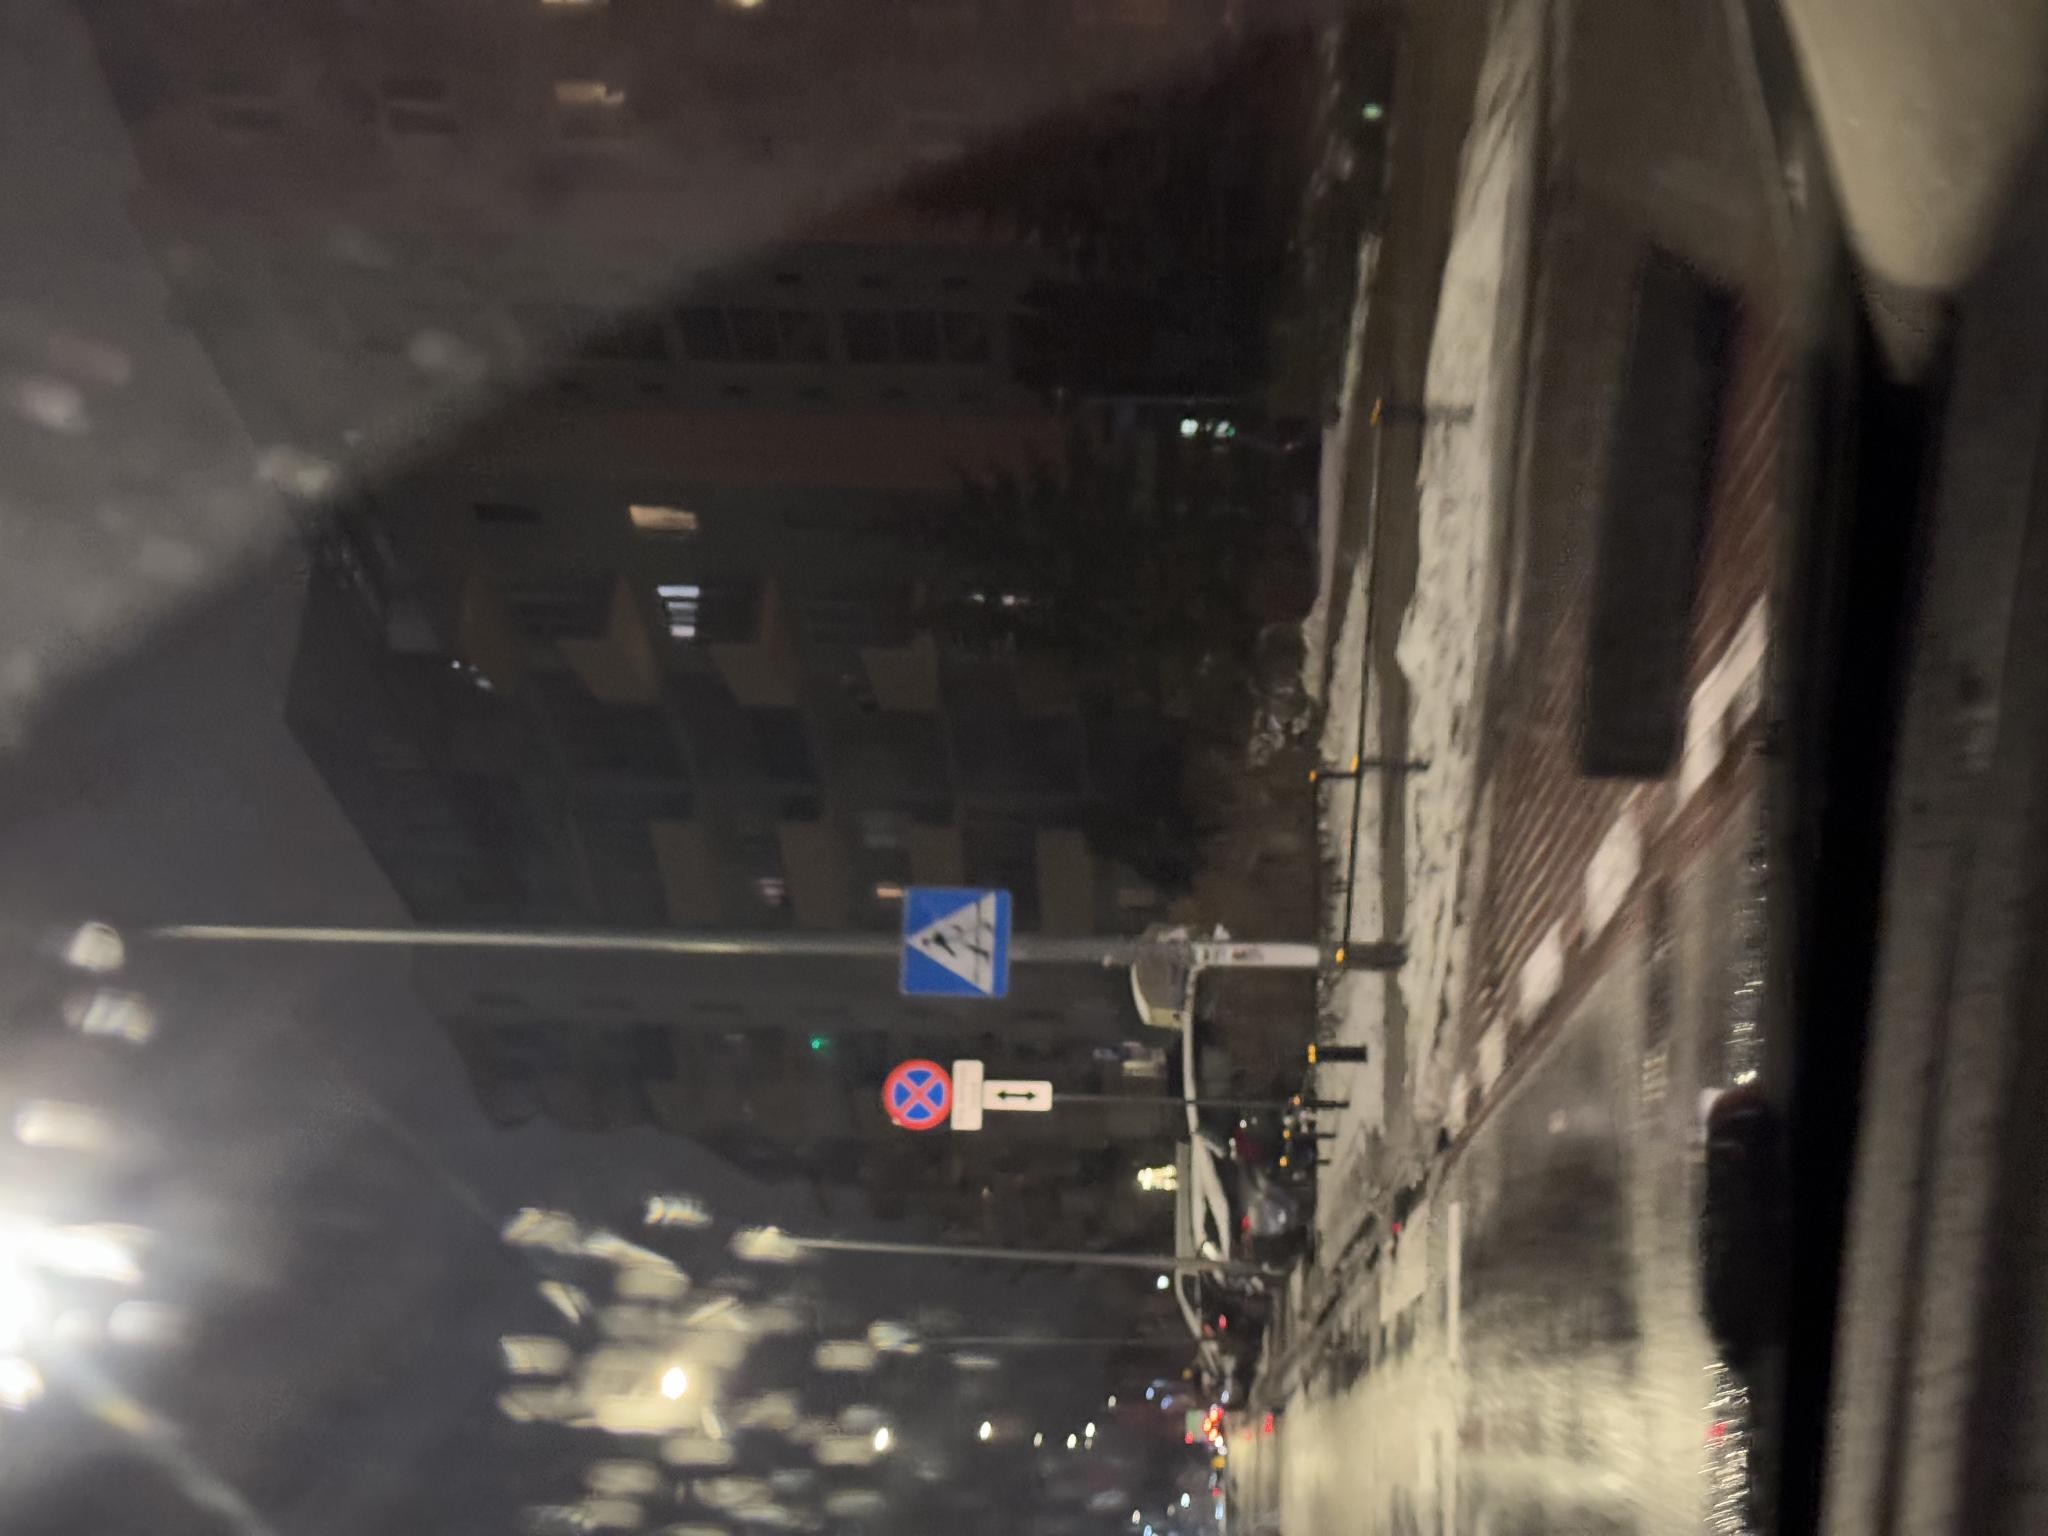information: (539, 899, 650, 1012)
other: (405, 950, 476, 984), (426, 983, 455, 1054)
prohibitory: (405, 883, 479, 952)
